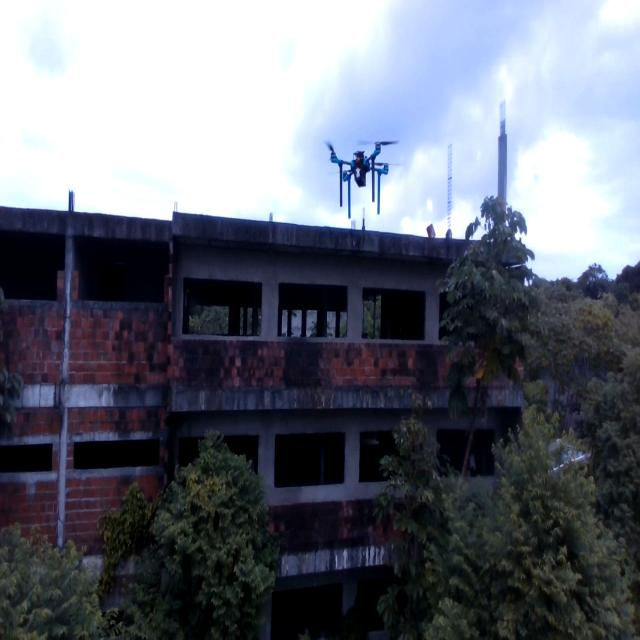-uav-: (312, 120, 402, 233)
